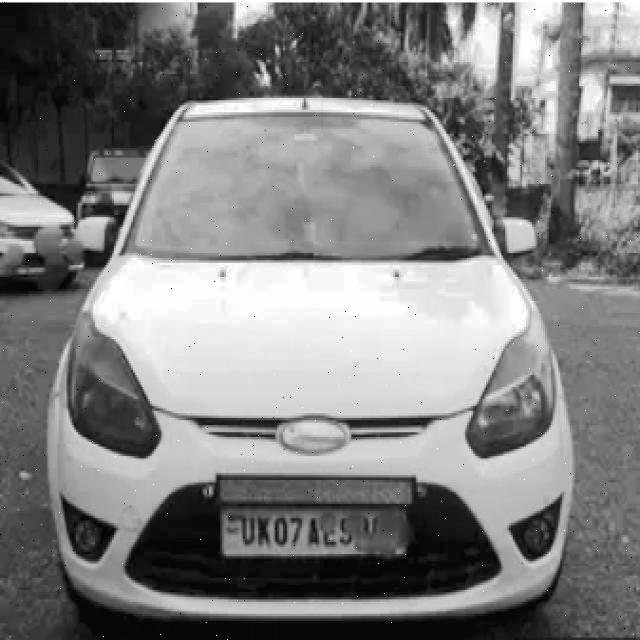Car: (23, 89, 574, 636)
